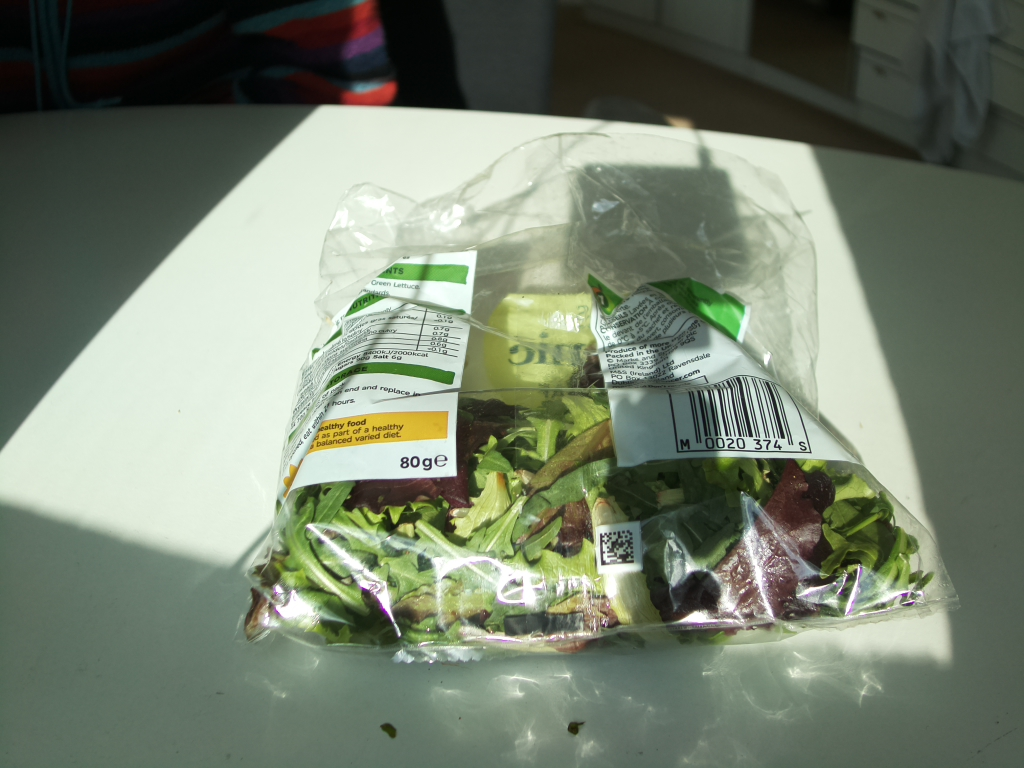salad: (238, 314, 952, 656)
